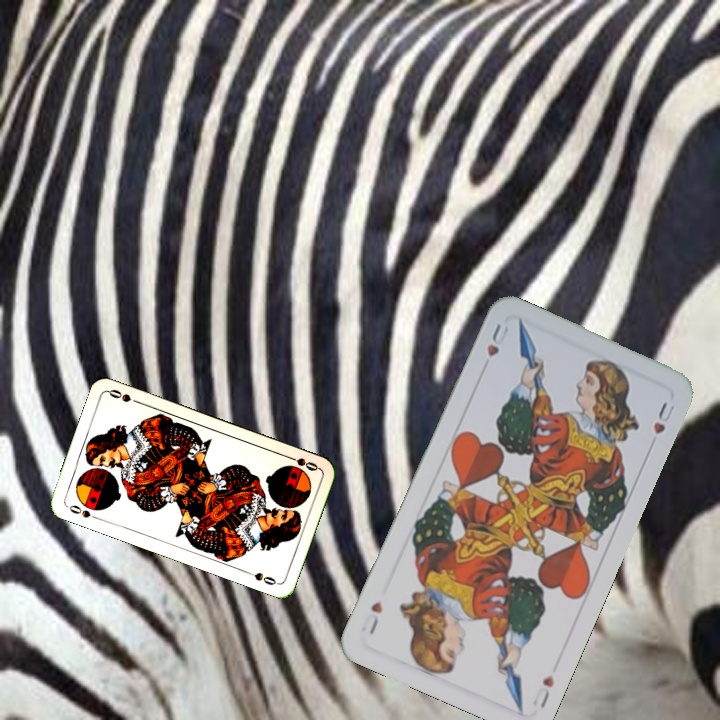HU: (482, 319, 511, 360), (528, 670, 557, 711)
SO: (282, 452, 321, 474), (63, 501, 102, 522)
